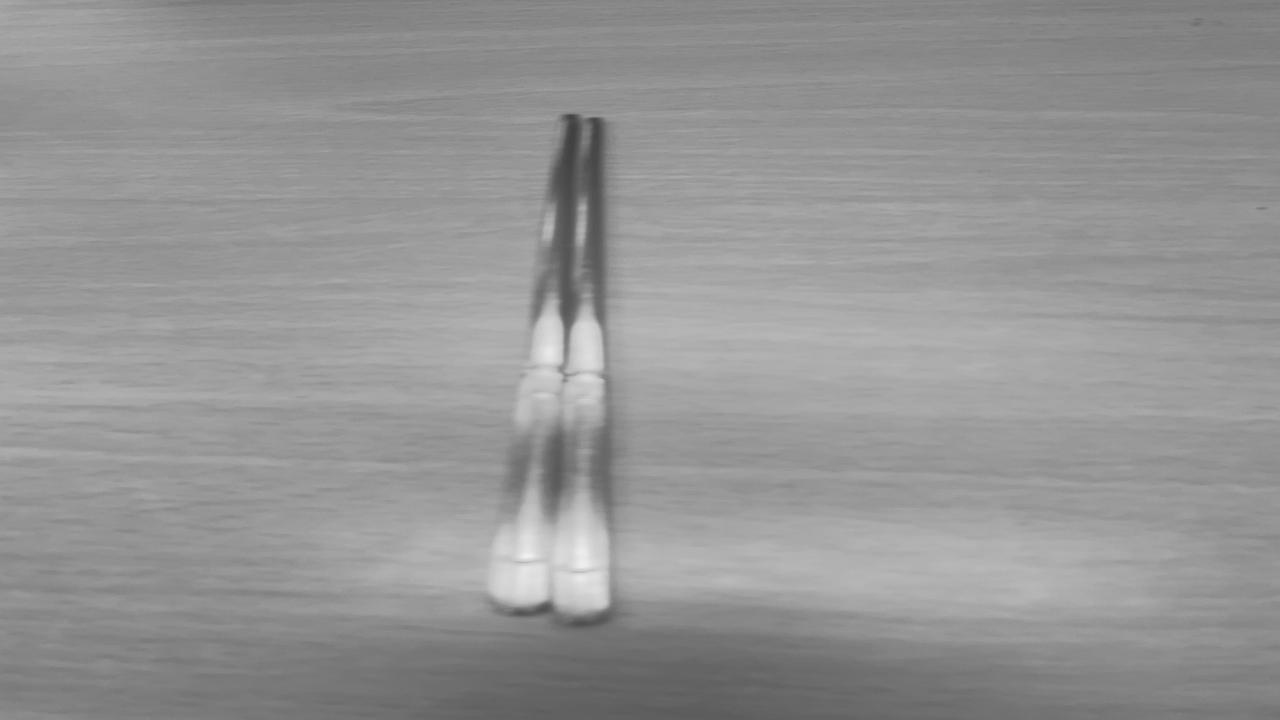chopstick: (487, 115, 624, 620)
